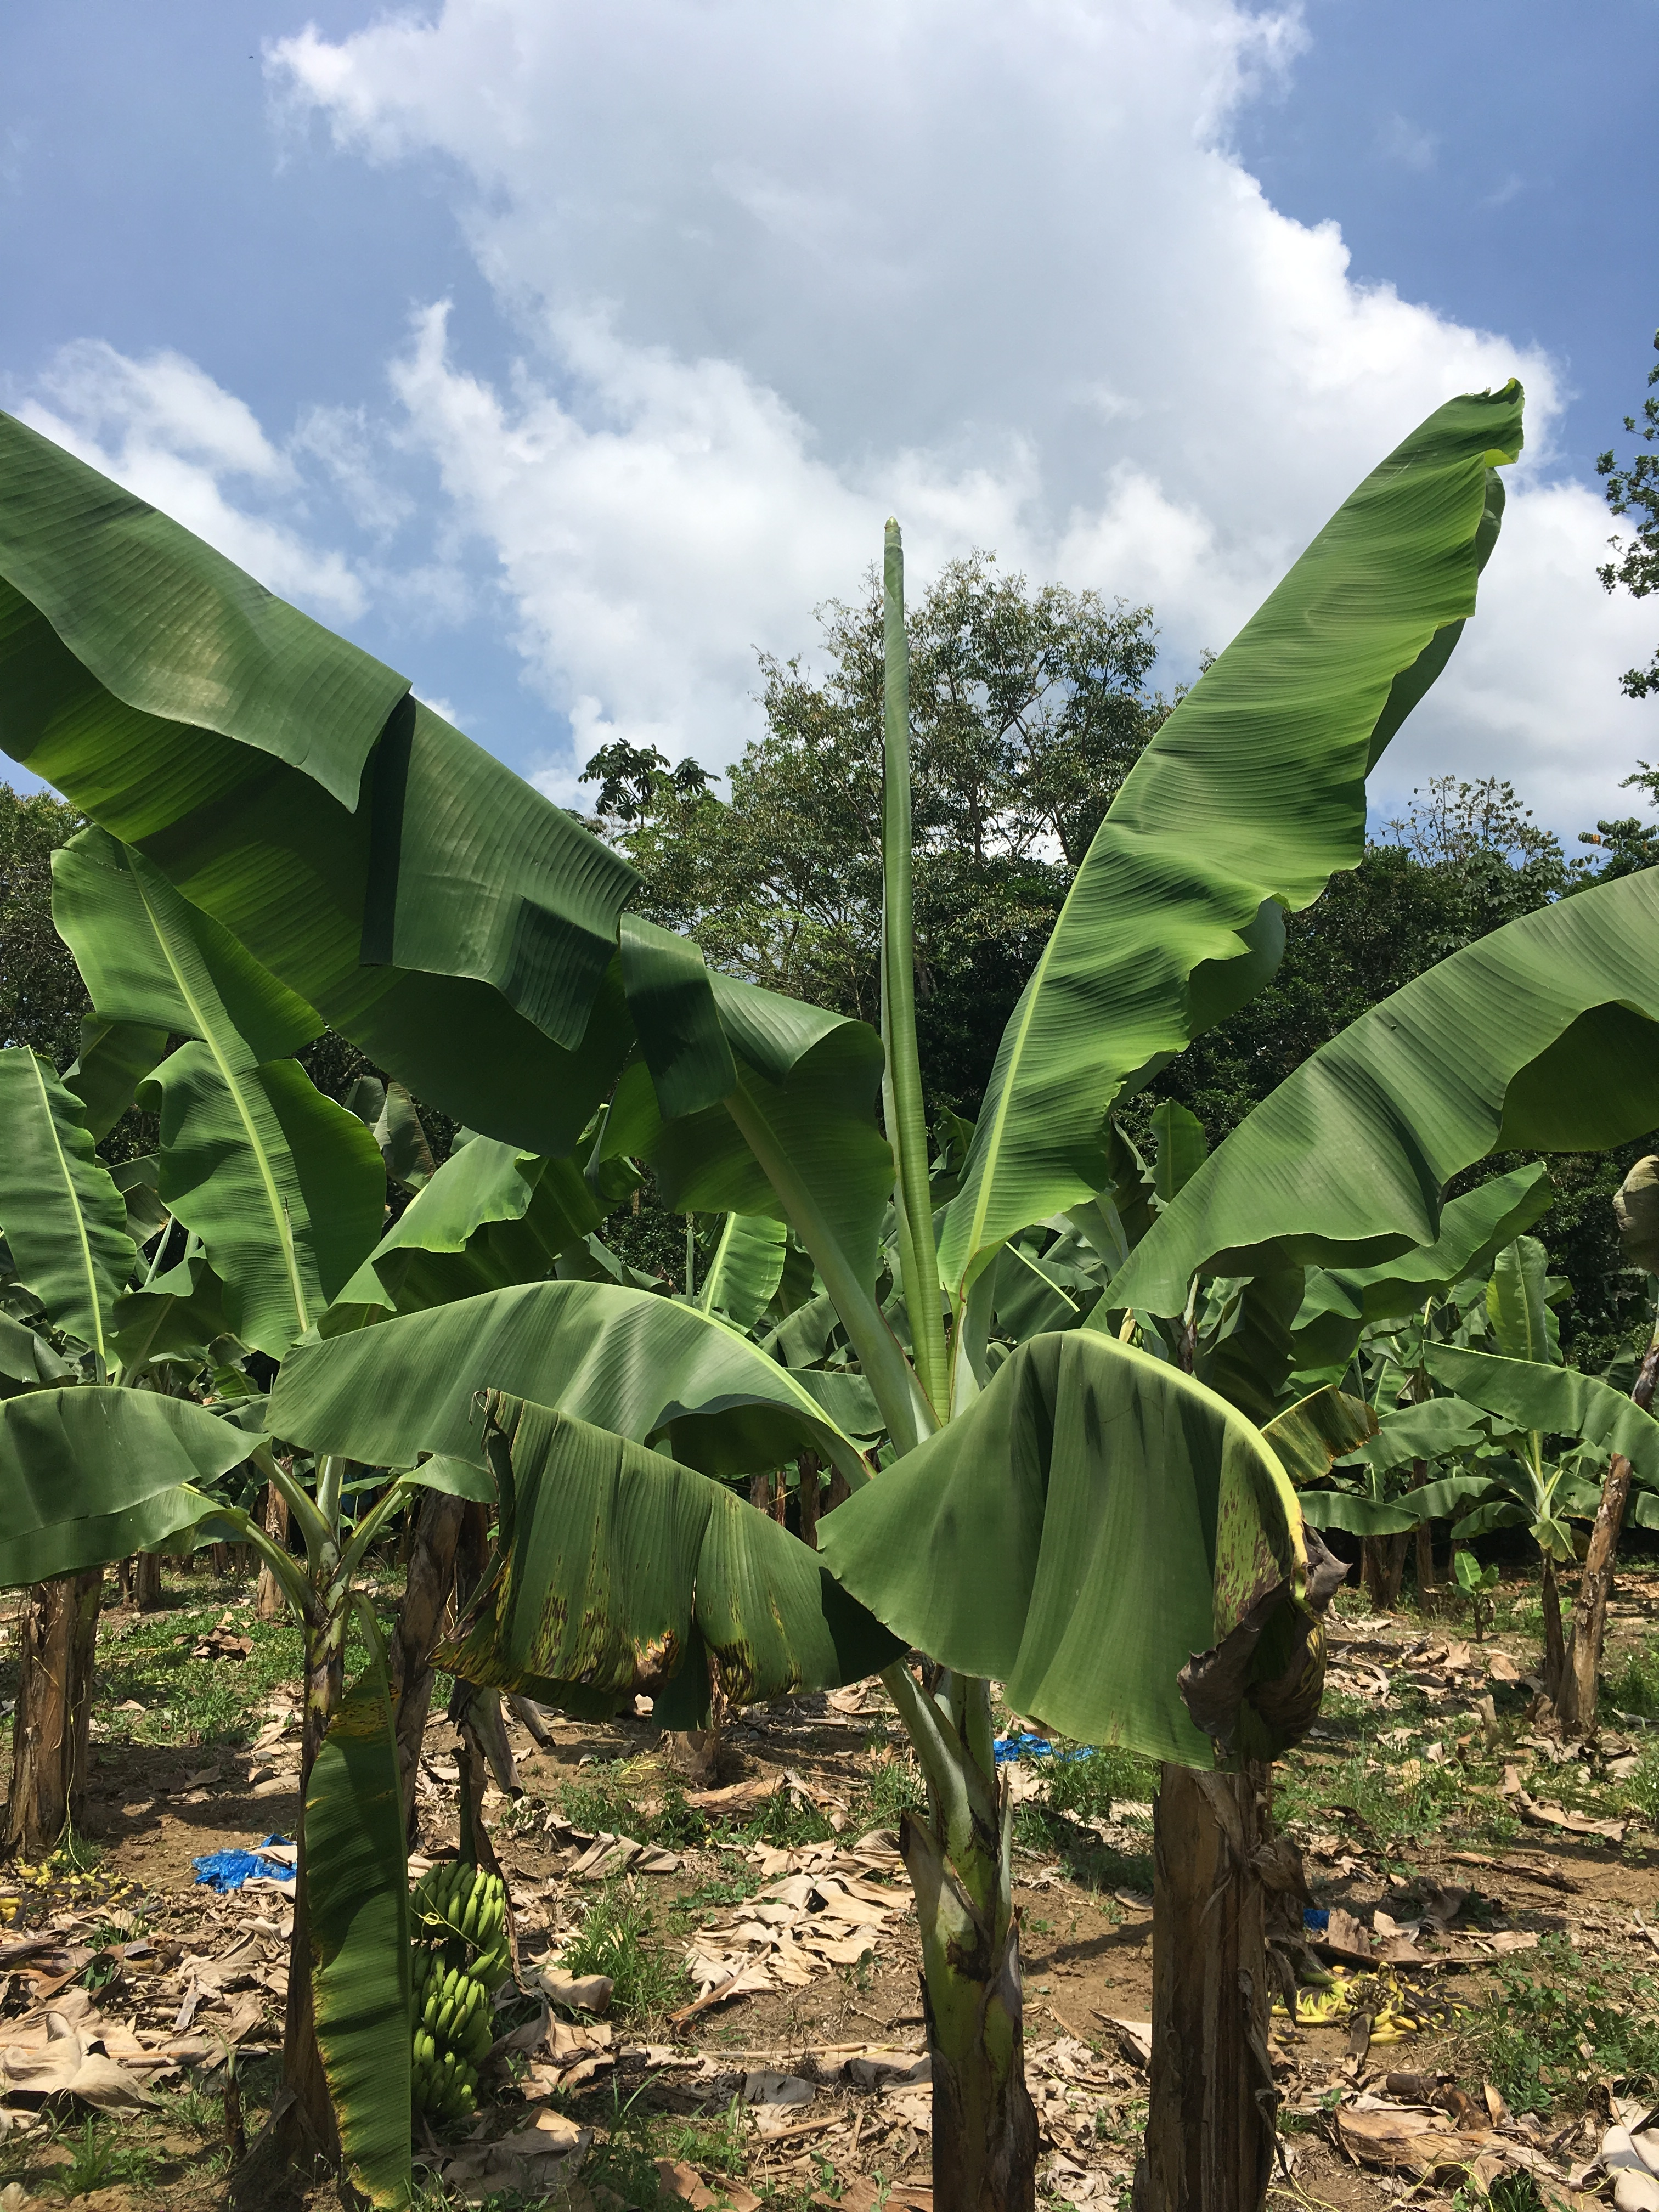candleleafs: (875, 519, 965, 1357)
